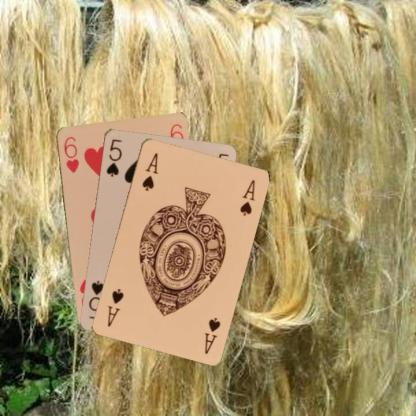5s: (103, 136, 123, 178)
6h: (61, 133, 80, 174)
As: (139, 150, 159, 192), (202, 314, 222, 356)
